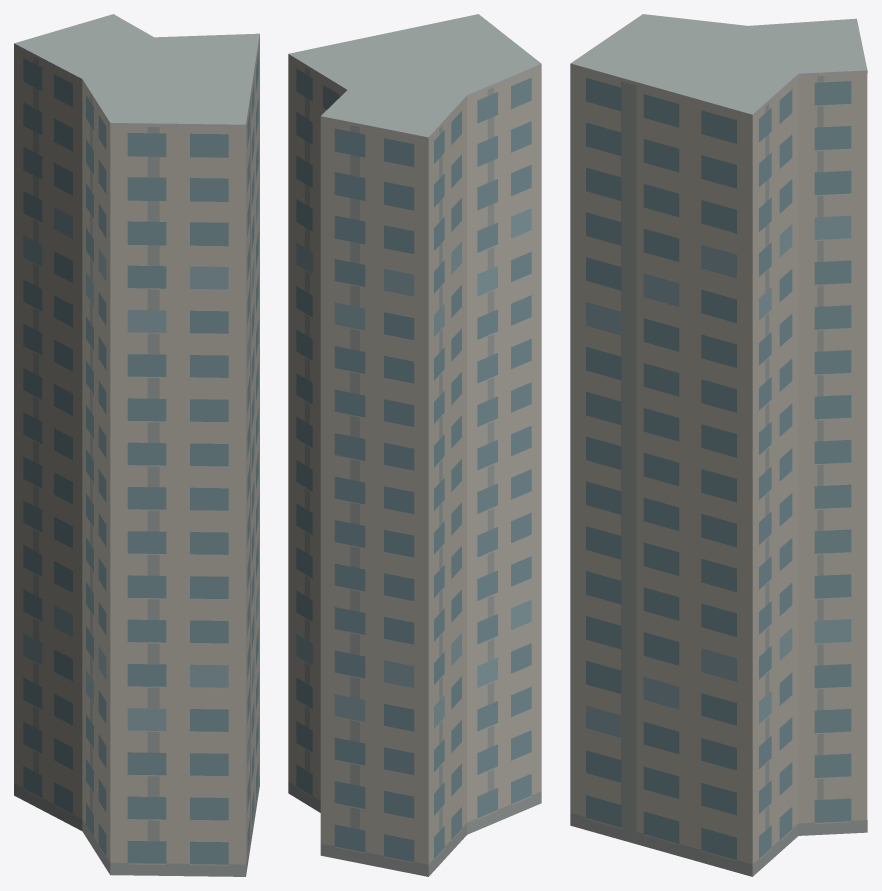
File: residential-14bb2450-e0e2-4862-b751-3b65c5f15877.glb
The picture shows the model from 3 angles, left to right: view 1: azimuth 30°, elevation 25°; view 2: azimuth 150°, elevation 25°; view 3: azimuth 270°, elevation 25°; orthographic projection. The views are drawn at different scales.
Parts seen in each view (by area): view 1: residential-14bb2450-e0e2-4862-b751-3b65c5f15877.tmp; view 2: residential-14bb2450-e0e2-4862-b751-3b65c5f15877.tmp; view 3: residential-14bb2450-e0e2-4862-b751-3b65c5f15877.tmp.
Boxes of the visible parts, <box> form: residential-14bb2450-e0e2-4862-b751-3b65c5f15877.tmp: <box>14,14,259,876</box>; residential-14bb2450-e0e2-4862-b751-3b65c5f15877.tmp: <box>288,14,541,876</box>; residential-14bb2450-e0e2-4862-b751-3b65c5f15877.tmp: <box>570,14,867,876</box>.
Size of the model in its own units: 15.31 by 54 by 19.08.
